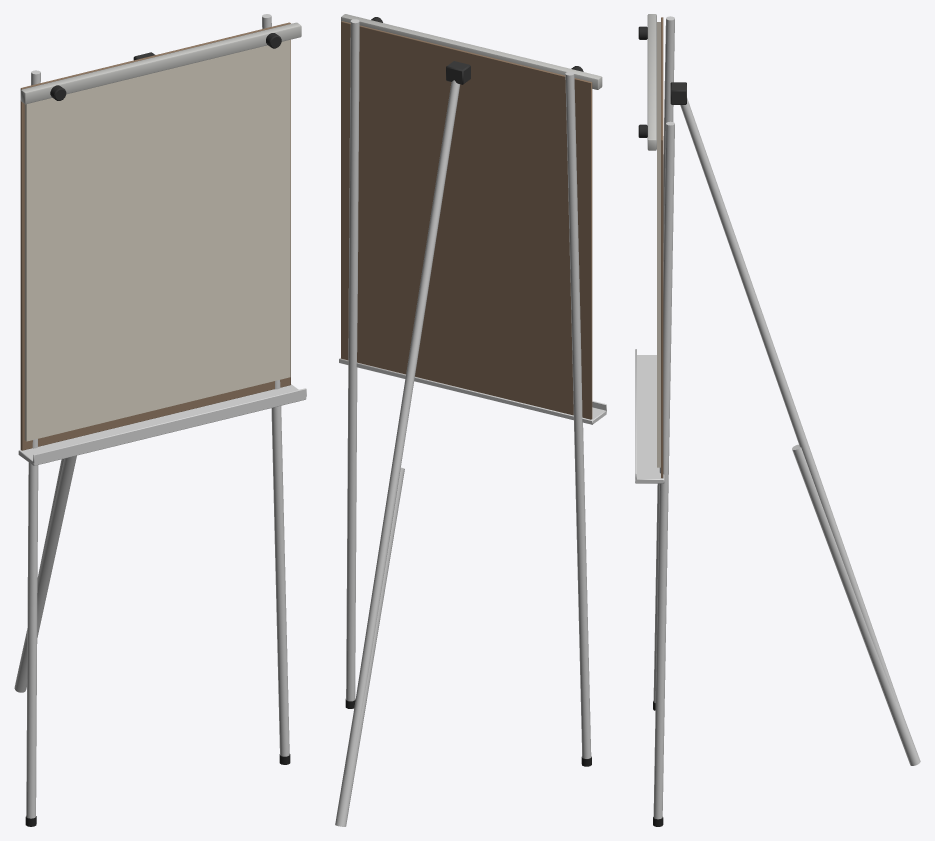
The model's file is Kit_FlipChartEasel.fbx.
The picture shows the model from 3 angles, left to right: view 1: azimuth 30°, elevation 25°; view 2: azimuth 150°, elevation 25°; view 3: azimuth 270°, elevation 25°; orthographic projection. The views are drawn at different scales.
Parts seen in each view (by area): view 1: Kit_FlipChartEasel_LOD0; view 2: Kit_FlipChartEasel_LOD0; view 3: Kit_FlipChartEasel_LOD0.
Part boxes in pixels (bbox=[...]): Kit_FlipChartEasel_LOD0: bbox=[14, 14, 306, 826]; Kit_FlipChartEasel_LOD0: bbox=[335, 14, 606, 826]; Kit_FlipChartEasel_LOD0: bbox=[635, 14, 920, 826].
Size of what is drawn, in the model's own units: 0.72 by 1.85 by 0.6878.
